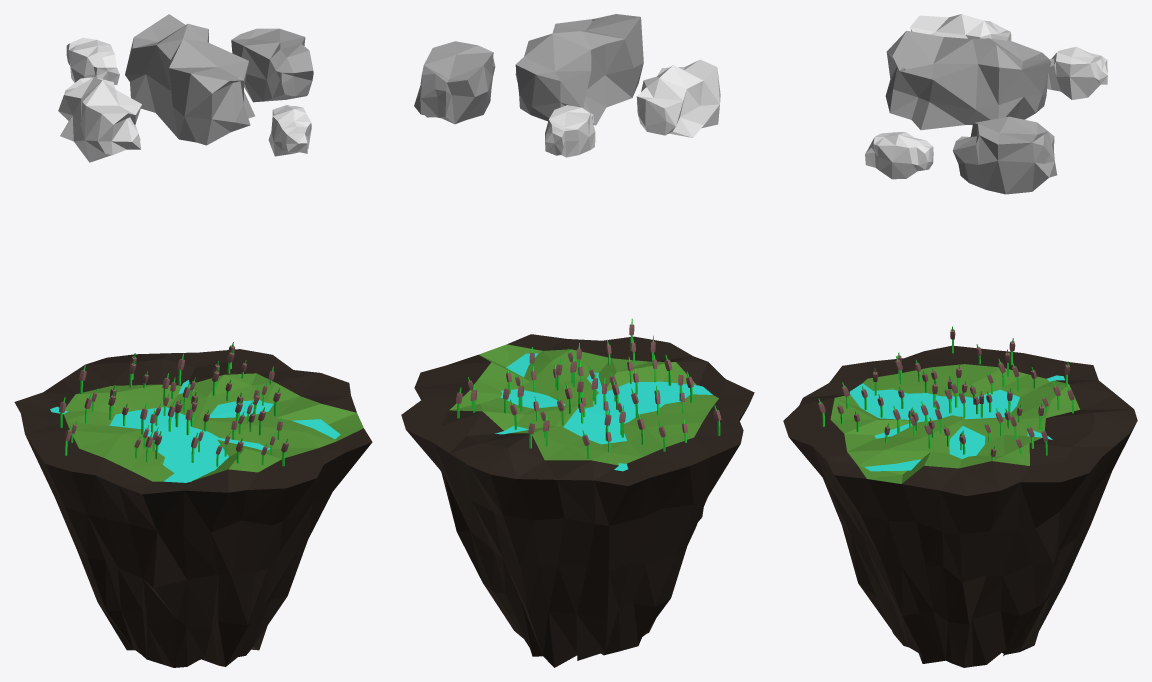
File: Ostrov-voda.fbx
3 views of the same model, side by side, from view 1: azimuth 30°, elevation 25°; view 2: azimuth 150°, elevation 25°; view 3: azimuth 270°, elevation 25° (orthographic).
Visible parts, largest first — view 1: Cube, Куб, Плоскость, Куб.006, Куб.005, Куб.007, Куб.008, Куб.003, Куб.009, Куб.004, Куб.002, Куб.001 (+1 smaller); view 2: Cube, Куб, Куб.005, Куб.006, Плоскость, Куб.007, Куб.003, Куб.001, Куб.004, Куб.002, Куб.009, Куб.000; view 3: Cube, Куб, Куб.005, Плоскость, Куб.008, Куб.007, Куб.006, Куб.004, Куб.001, Куб.002, Куб.003, Куб.009 (+1 smaller).
Boxes of the visible parts, x1=… form: Cube: x1=14, y1=349, x2=372, y2=667; Куб: x1=125, y1=14, x2=254, y2=145; Плоскость: x1=50, y1=380, x2=340, y2=482; Куб.006: x1=58, y1=77, x2=141, y2=162; Куб.005: x1=231, y1=28, x2=313, y2=102; Куб.007: x1=66, y1=37, x2=119, y2=84; Куб.008: x1=268, y1=105, x2=311, y2=156; Куб.003: x1=59, y1=385, x2=162, y2=459; Куб.009: x1=140, y1=391, x2=243, y2=466; Куб.004: x1=185, y1=392, x2=288, y2=466; Куб.002: x1=79, y1=353, x2=182, y2=427; Куб.001: x1=177, y1=342, x2=280, y2=415; Cube: x1=401, y1=334, x2=754, y2=667; Куб: x1=515, y1=14, x2=643, y2=125; Куб.005: x1=414, y1=41, x2=495, y2=124; Куб.006: x1=636, y1=59, x2=720, y2=137; Плоскость: x1=495, y1=353, x2=712, y2=471; Куб.007: x1=545, y1=105, x2=595, y2=157; Куб.003: x1=604, y1=369, x2=721, y2=451; Куб.001: x1=456, y1=347, x2=572, y2=429; Куб.004: x1=555, y1=318, x2=672, y2=401; Куб.002: x1=528, y1=378, x2=644, y2=458; Куб.009: x1=577, y1=335, x2=693, y2=418; Куб.000: x1=503, y1=343, x2=619, y2=425; Cube: x1=783, y1=345, x2=1137, y2=667; Куб: x1=885, y1=30, x2=1051, y2=130; Куб.005: x1=952, y1=116, x2=1057, y2=194; Плоскость: x1=849, y1=375, x2=1064, y2=471; Куб.008: x1=865, y1=132, x2=933, y2=179; Куб.007: x1=1047, y1=46, x2=1107, y2=99; Куб.006: x1=910, y1=14, x2=1011, y2=41; Куб.004: x1=818, y1=369, x2=941, y2=442; Куб.001: x1=924, y1=390, x2=1047, y2=459; Куб.002: x1=950, y1=349, x2=1074, y2=422; Куб.003: x1=895, y1=326, x2=1019, y2=397; Куб.009: x1=842, y1=352, x2=965, y2=427.
Size of the model in its own units: 2717 by 5106 by 2703.
